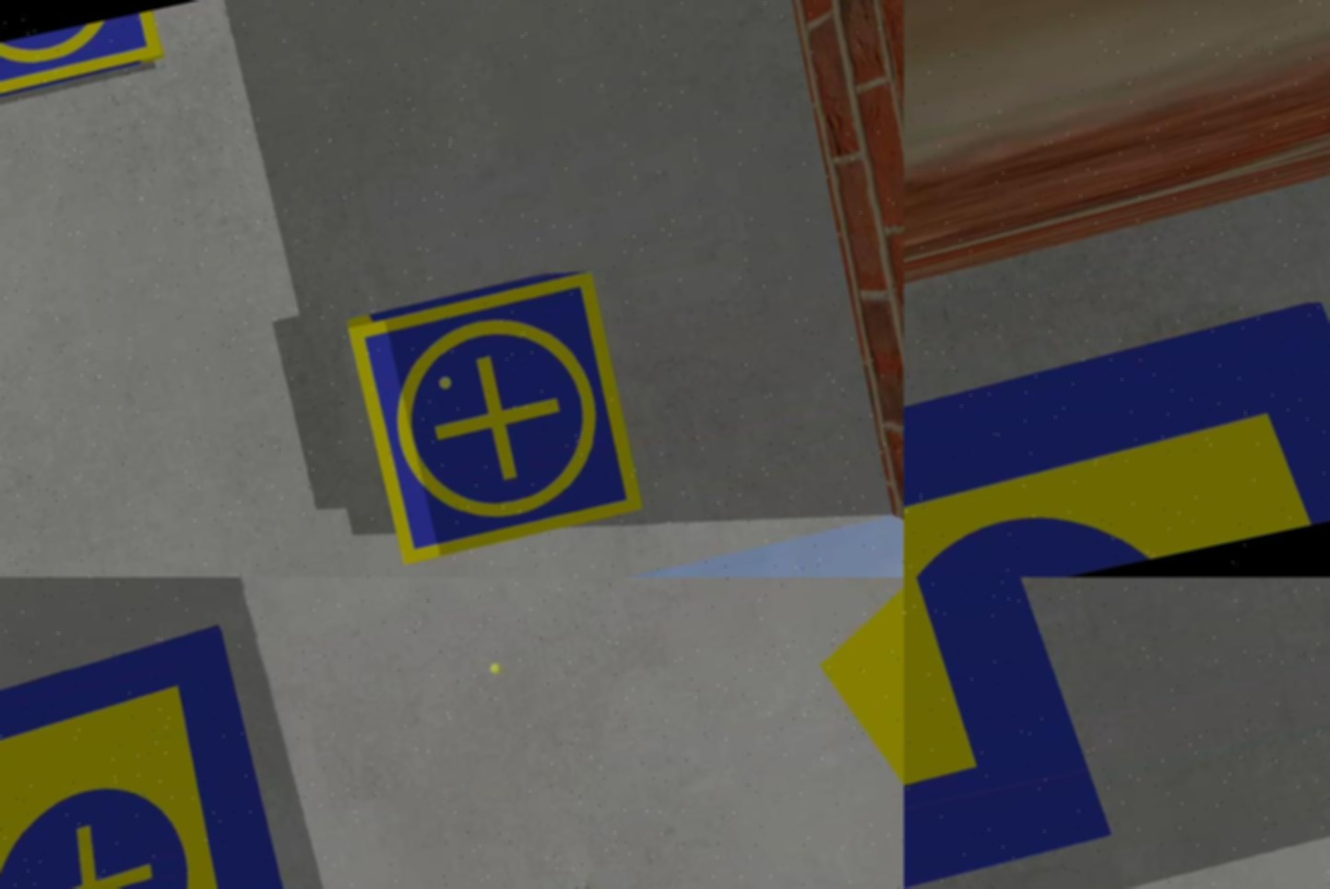large_base: (904, 295, 1330, 578), (1, 619, 356, 889), (904, 578, 1120, 889)
small_base: (349, 273, 642, 571), (1, 10, 166, 111)
